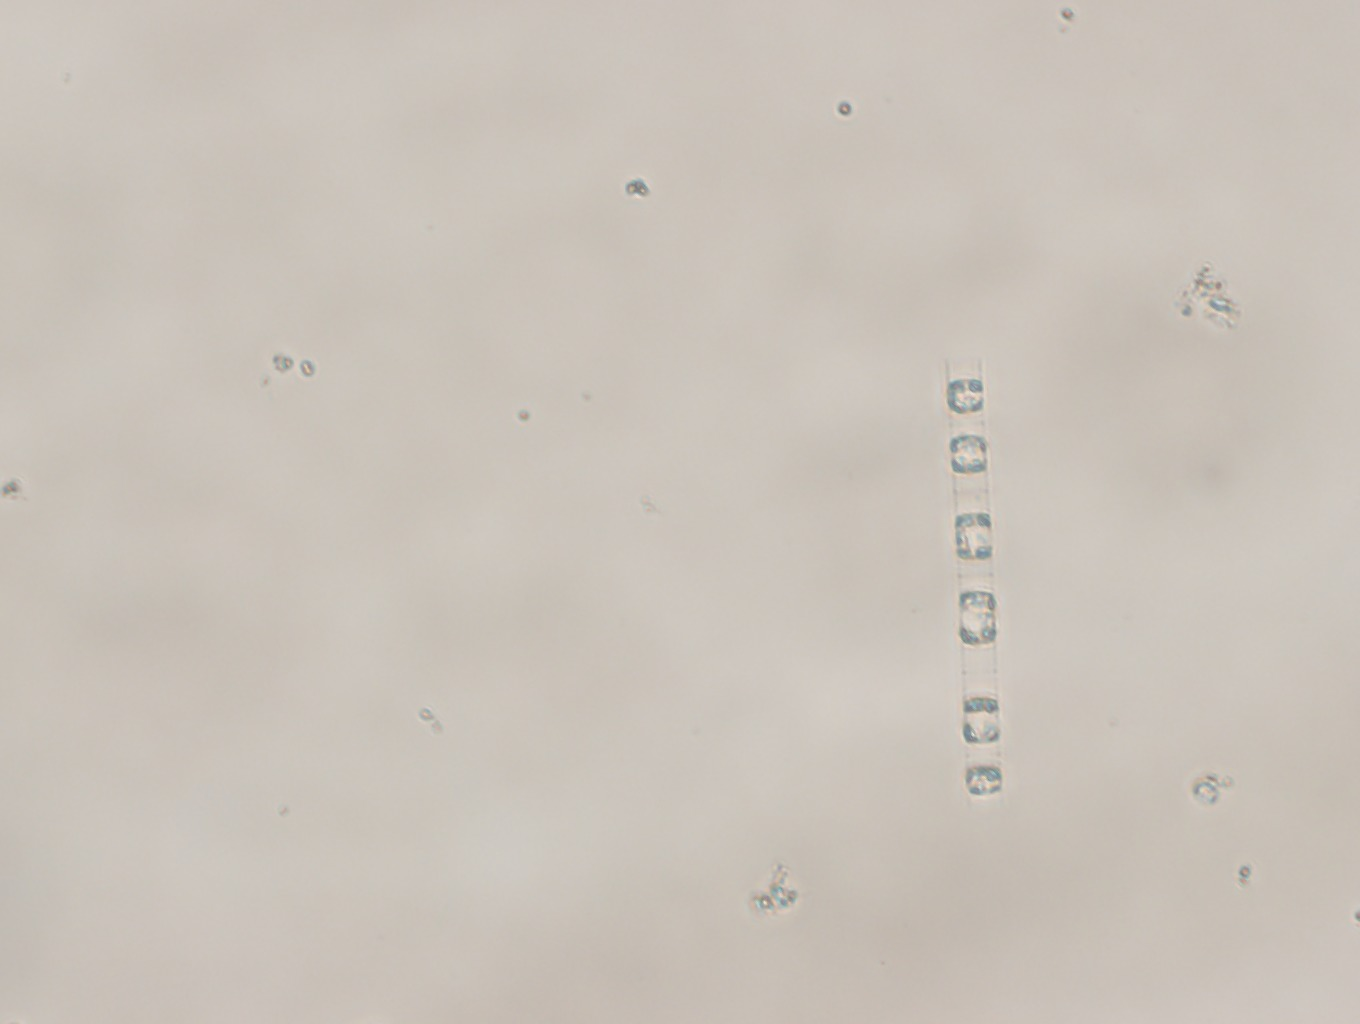skeletonema: (913, 330, 1039, 819)
